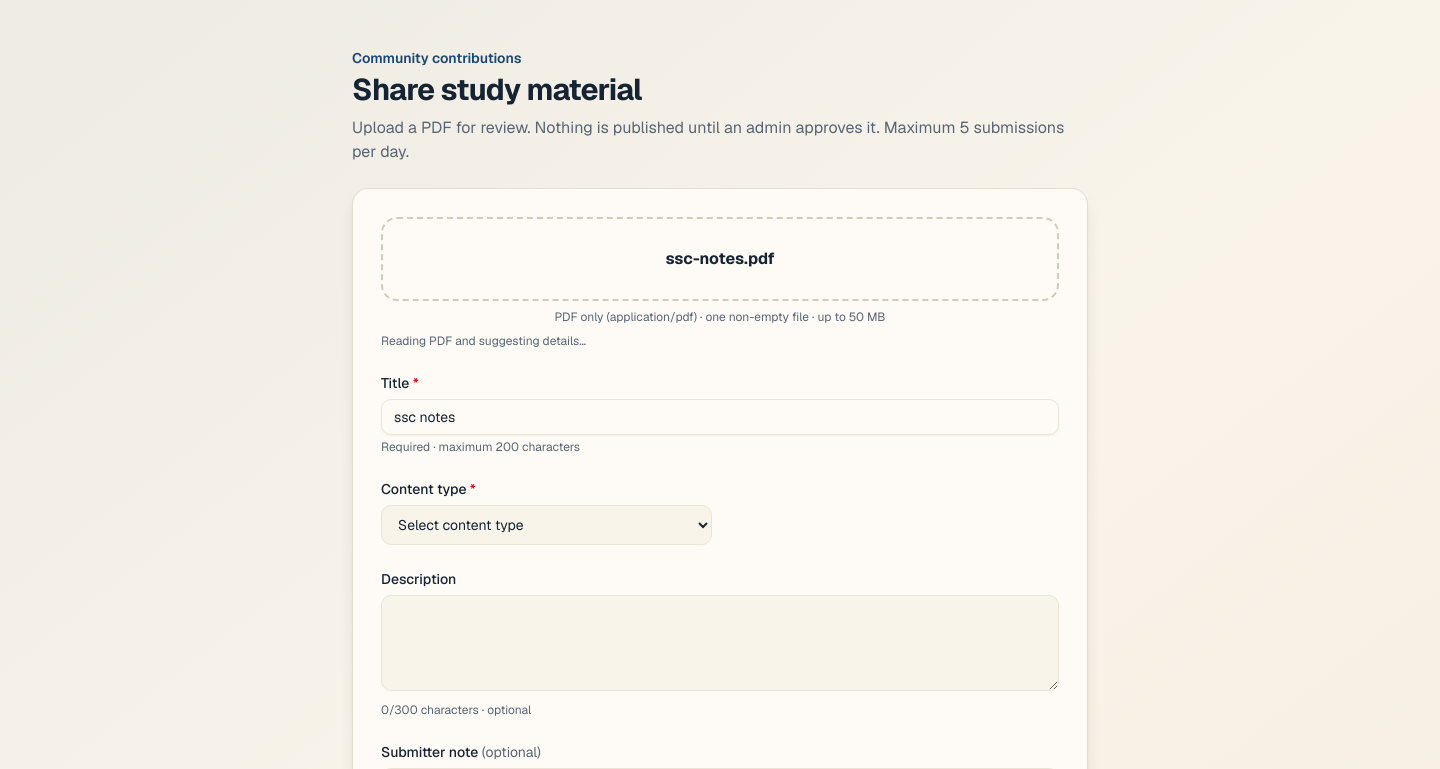
Test case: public PDF submission metadata › does not overwrite a title edited while analysis is running
The image size is (1440, 769).
Earlier steps of the test are not shown.
Replace the text in the field labelled "Title *" with "My reviewed title" at (720, 417), box 381,399 -> 1059,435
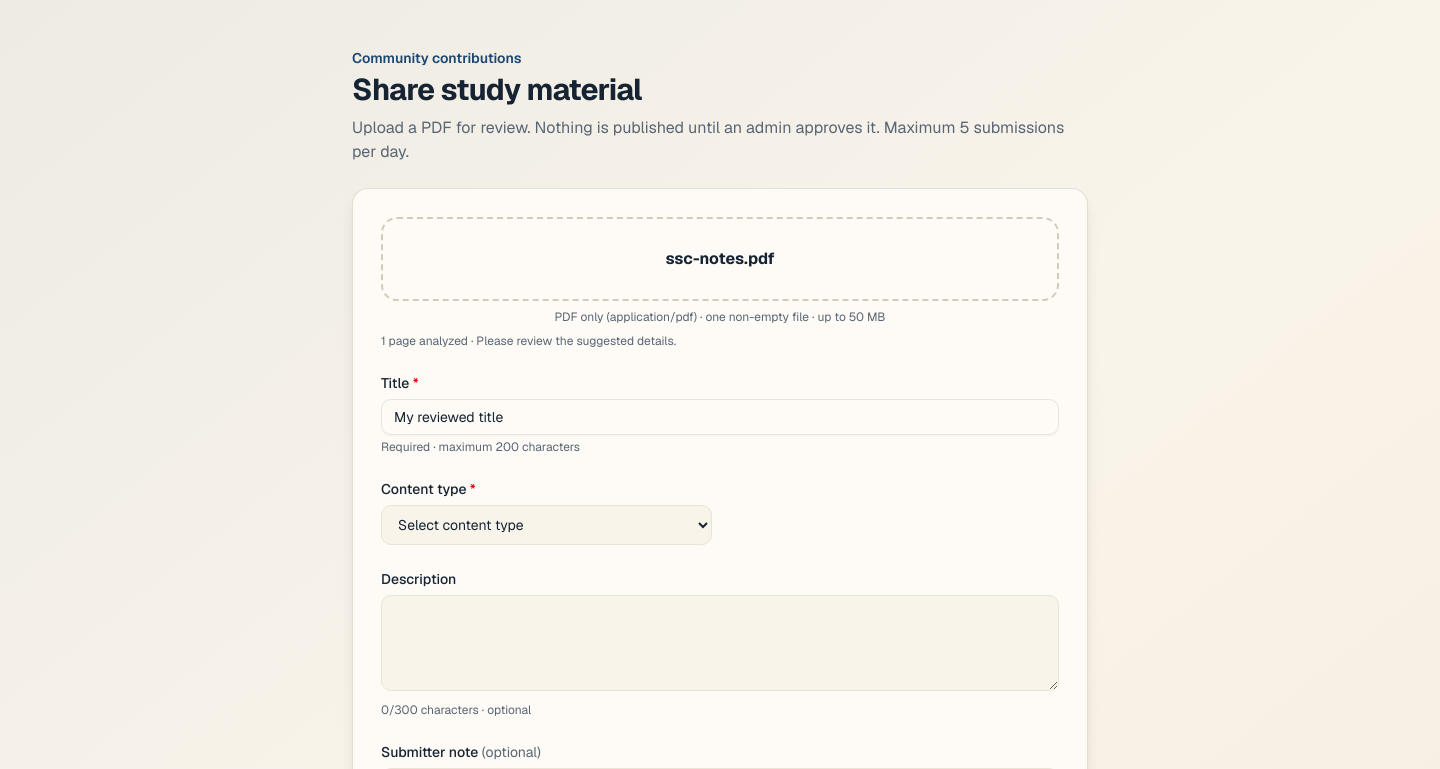
Expected: the text "1 page analyzed · Please review the suggested details." is shown, 381,333 -> 676,349
